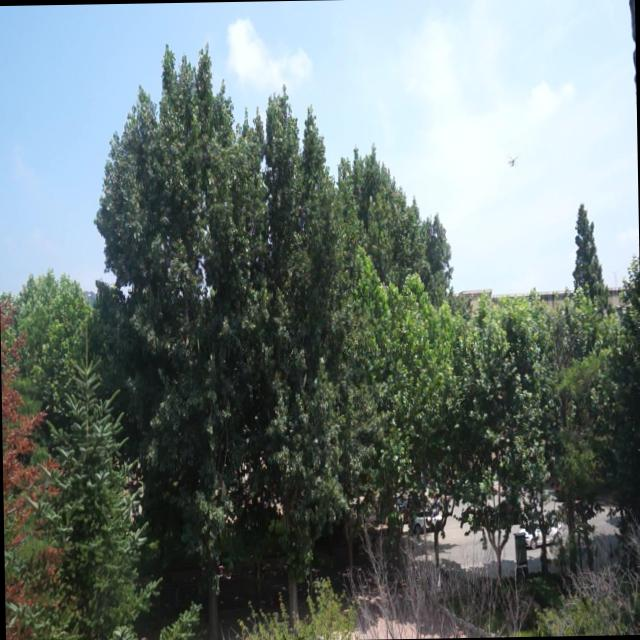drone: (506, 148, 518, 171)
